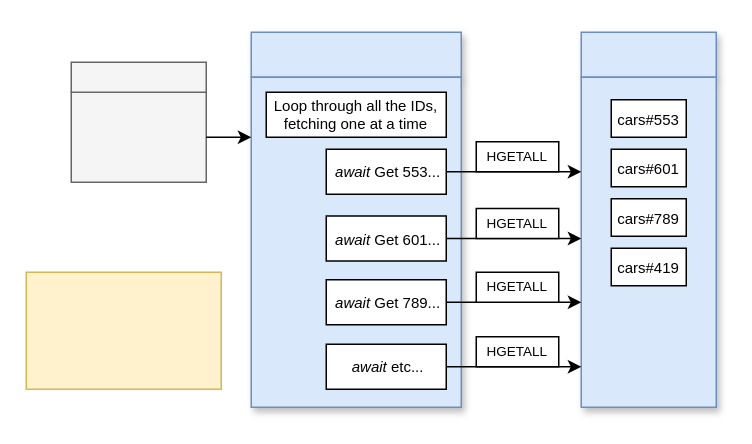
Image size: 752x444. Some labels were removed from this diagram. Each missing label, with the centre of its shape:
App: (x=357, y=56)
Give me details about the cars with IDs 553, 601, 789, 419, 950, 15: (x=138, y=136)
Option #1 - Loop over Id's, fetch one at a time (you probably don't want this): (x=123, y=330)
Redis: (x=649, y=56)
Request: (x=138, y=76)
